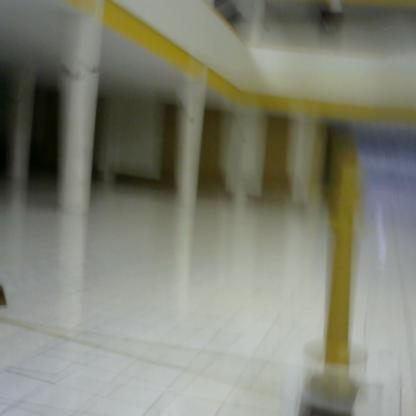pole: (302, 135, 378, 391)
